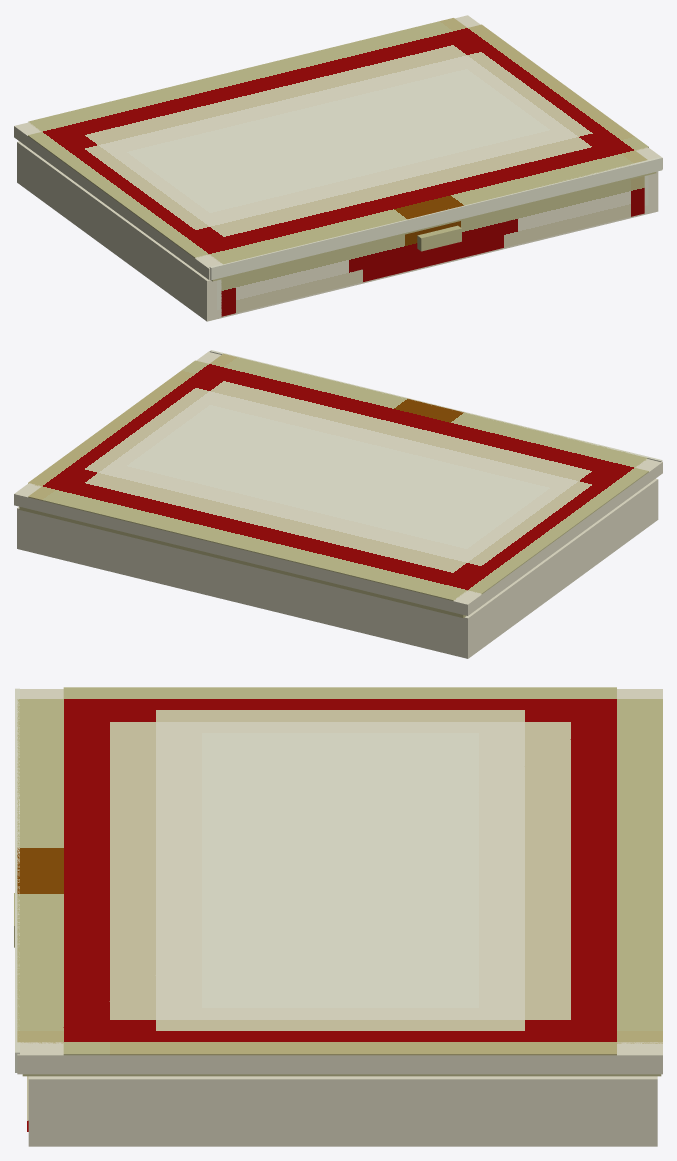
File: CMU3DFoodPizzaBoxCloud.glb
The picture shows the model from 3 angles, top to bottom: view 1: azimuth 30°, elevation 25°; view 2: azimuth 150°, elevation 25°; view 3: azimuth 270°, elevation 25°; orthographic projection. The views are drawn at different scales.
Parts seen in each view (by area): view 1: original lid border and source brand artwork, original front print and closure tab, left hollow carton wall, front lid rolled fold, independent cardboard lid, folded cardboard bottom, lid underside shadow and seam, folded closure tongue; view 2: original lid border and source brand artwork, rear folded rim, independent cardboard lid, left hollow carton wall, folded cardboard bottom, lid underside shadow and seam, front lid rolled fold; view 3: original lid border and source brand artwork, right hollow carton wall, independent cardboard lid, folded cardboard bottom, lid underside shadow and seam, front lid rolled fold.
Part boxes in pixels (x1=…): original lid border and source brand artwork: x1=28, y1=18, x2=648, y2=264; original front print and closure tab: x1=221, y1=176, x2=644, y2=316; left hollow carton wall: x1=17, y1=141, x2=216, y2=312; front lid rolled fold: x1=209, y1=157, x2=662, y2=280; independent cardboard lid: x1=14, y1=15, x2=662, y2=279; folded cardboard bottom: x1=17, y1=174, x2=658, y2=321; lid underside shadow and seam: x1=211, y1=172, x2=656, y2=281; folded closure tongue: x1=417, y1=225, x2=461, y2=251; original lid border and source brand artwork: x1=28, y1=353, x2=648, y2=600; rear folded rim: x1=27, y1=512, x2=458, y2=647; independent cardboard lid: x1=14, y1=351, x2=662, y2=615; left hollow carton wall: x1=458, y1=478, x2=658, y2=649; folded cardboard bottom: x1=17, y1=511, x2=658, y2=658; lid underside shadow and seam: x1=19, y1=506, x2=466, y2=618; front lid rolled fold: x1=209, y1=350, x2=662, y2=461; original lid border and source brand artwork: x1=17, y1=687, x2=662, y2=1055; right hollow carton wall: x1=28, y1=1076, x2=657, y2=1131; independent cardboard lid: x1=17, y1=689, x2=662, y2=1074; folded cardboard bottom: x1=28, y1=1131, x2=657, y2=1146; lid underside shadow and seam: x1=22, y1=1074, x2=661, y2=1076; front lid rolled fold: x1=15, y1=688, x2=19, y2=1072.
Size of the model in its own units: 1.01 by 0.12 by 0.753.
5 materials, 2 textured.
